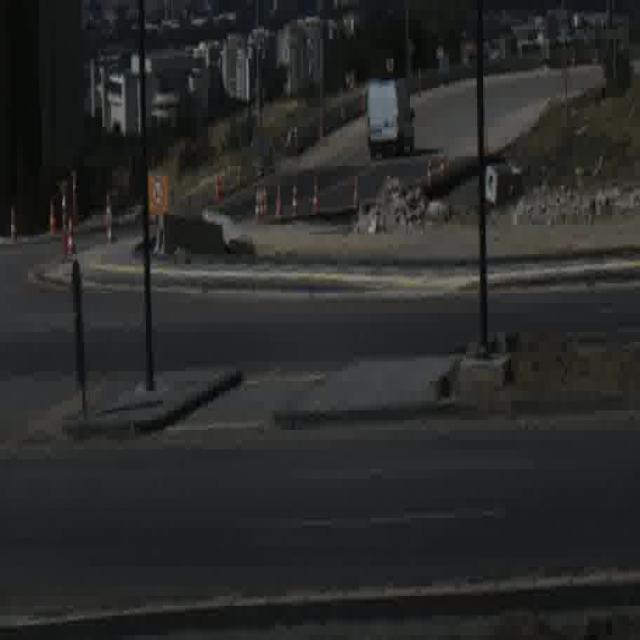Car: (365, 78, 415, 160)
